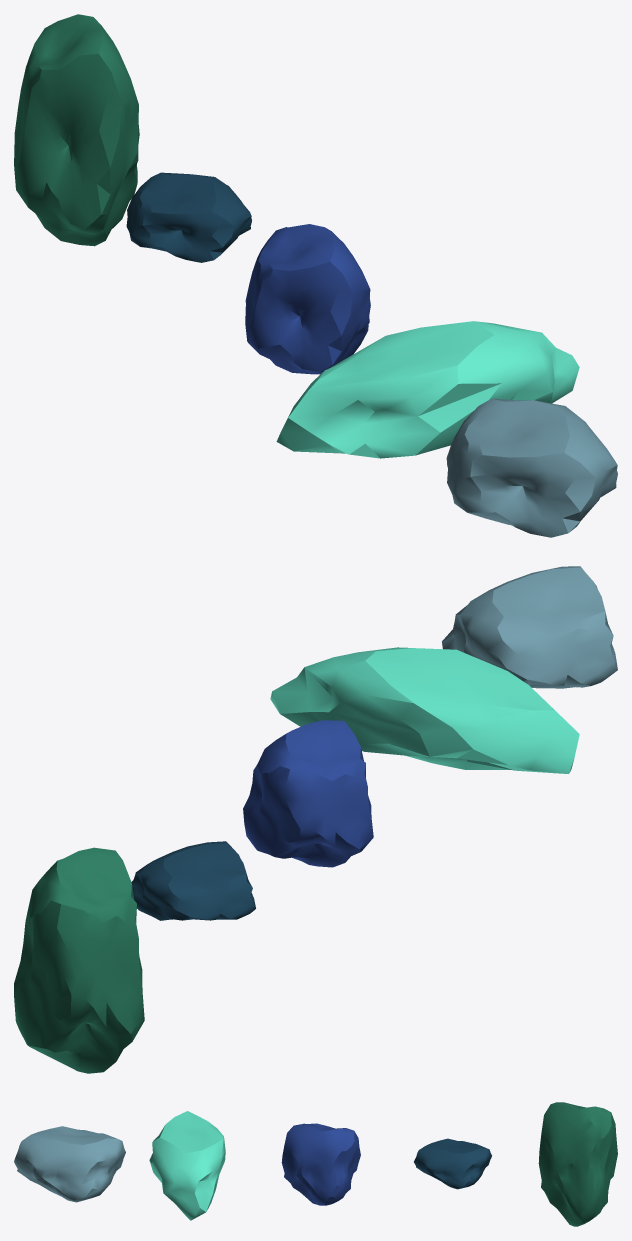
The model's file is Assets_Rocas.fbx.
3 views of the same model, one above another, from view 1: azimuth 30°, elevation 25°; view 2: azimuth 150°, elevation 25°; view 3: azimuth 270°, elevation 25° (orthographic). The views are drawn at different scales.
Parts seen in each view (by area): view 1: Cube.002, Cube.001, Cube.003, Cube, Cube.004; view 2: Cube.002, Cube.001, Cube, Cube.003, Cube.004; view 3: Cube.001, Cube.003, Cube.002, Cube, Cube.004.
Part boxes in pixels (box(x1,y1,x2,y2)): Cube.002: box(276, 321, 579, 458); Cube.001: box(14, 14, 139, 246); Cube.003: box(446, 398, 617, 537); Cube: box(245, 224, 370, 374); Cube.004: box(126, 172, 251, 262); Cube.002: box(270, 647, 579, 773); Cube.001: box(14, 847, 144, 1073); Cube: box(243, 720, 373, 867); Cube.003: box(442, 566, 617, 688); Cube.004: box(131, 841, 255, 920); Cube.001: box(538, 1102, 617, 1226); Cube.003: box(14, 1126, 125, 1202); Cube.002: box(149, 1111, 225, 1220); Cube: box(281, 1123, 360, 1205); Cube.004: box(414, 1138, 491, 1189).
Bounding box in the file's own units: 372 × 256 × 1154.
